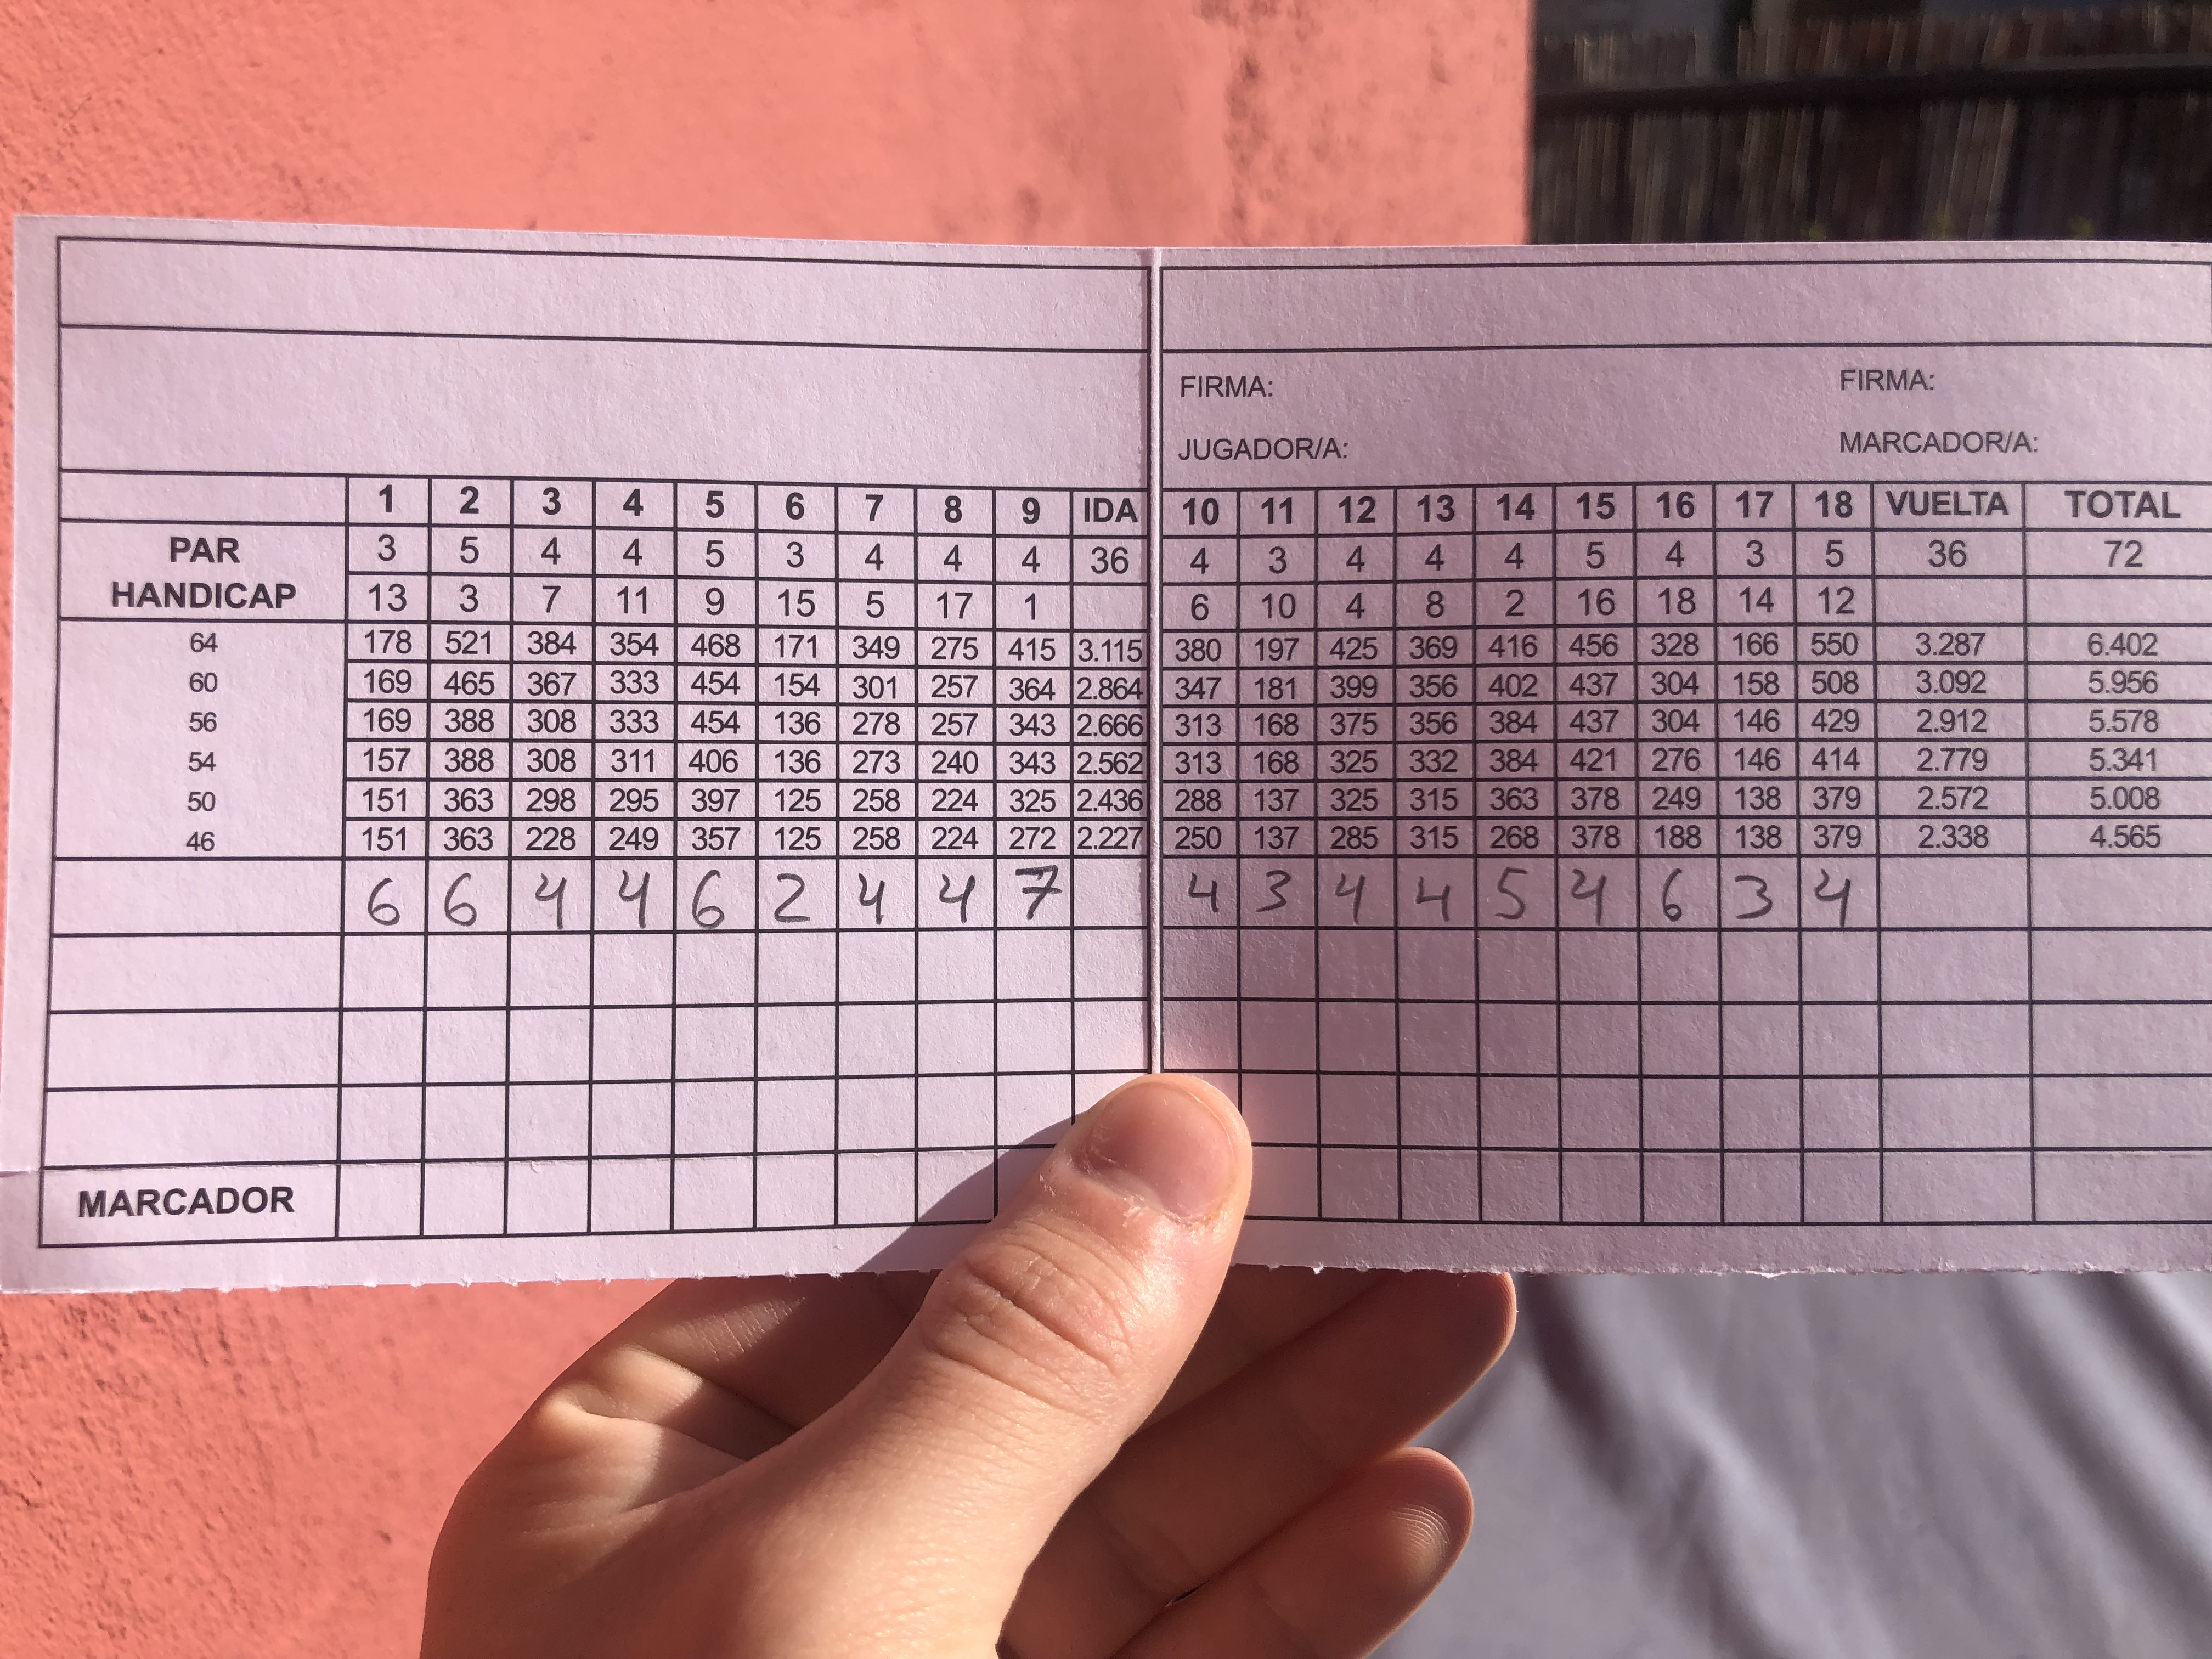par: (167, 533, 2148, 575)
score: (366, 870, 1857, 924)
